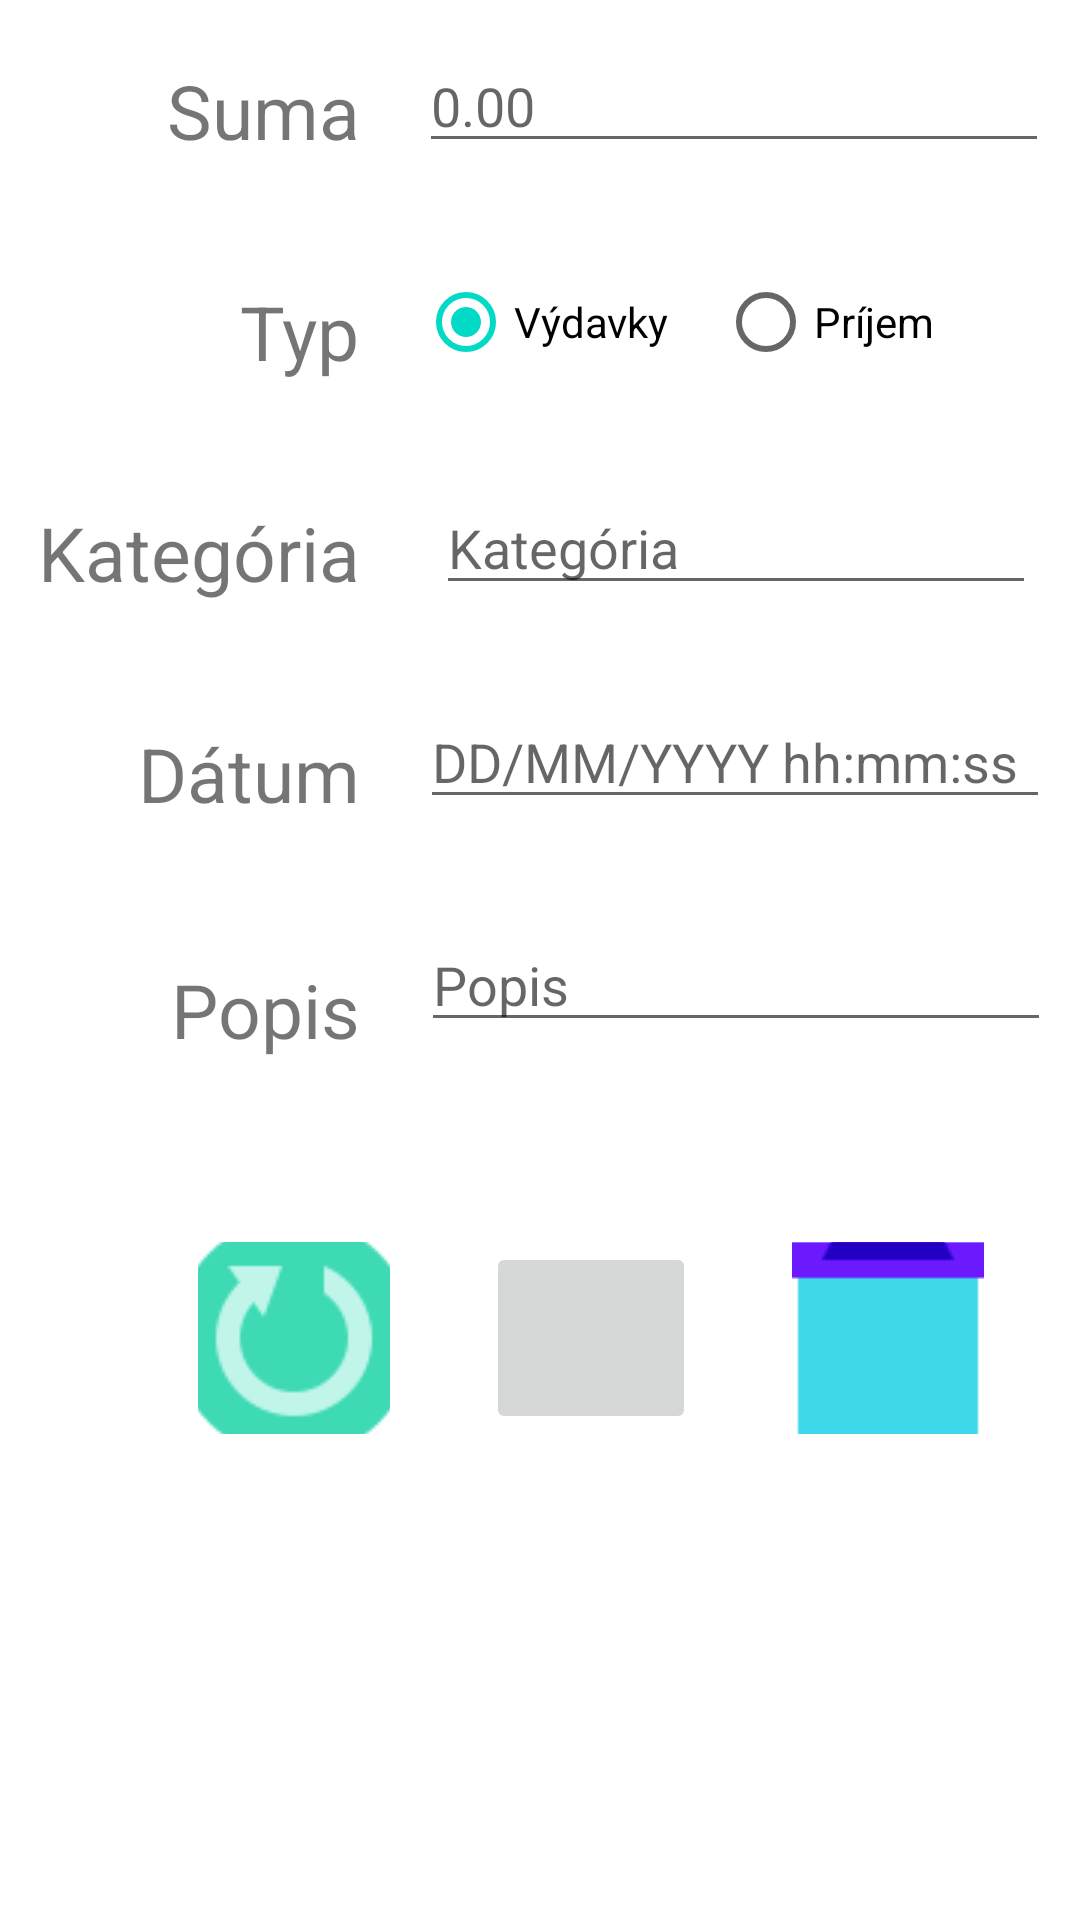

Locate icon controls on the screen. Image size 1080×1920, boxes as {"x1": x1, "y1": y1, "x2": x2, "y2": y2}.
again: {"x1": 198, "y1": 1242, "x2": 390, "y2": 1434}
delete data: {"x1": 792, "y1": 1242, "x2": 984, "y2": 1434}
